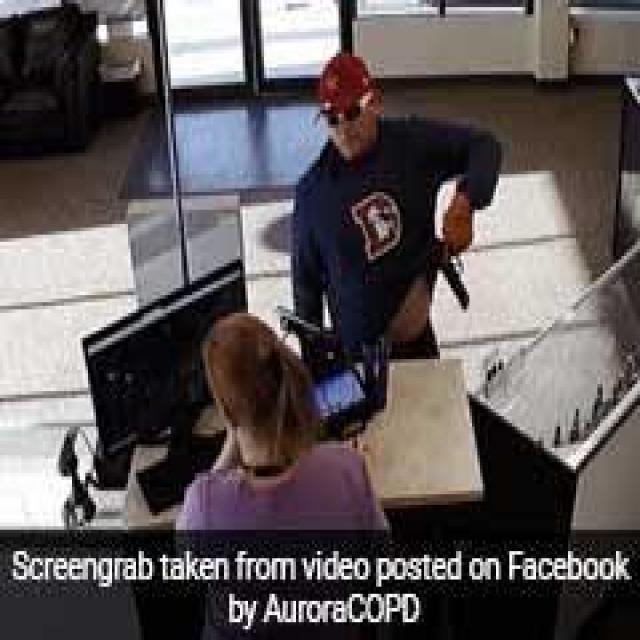weapon: (422, 224, 474, 320)
